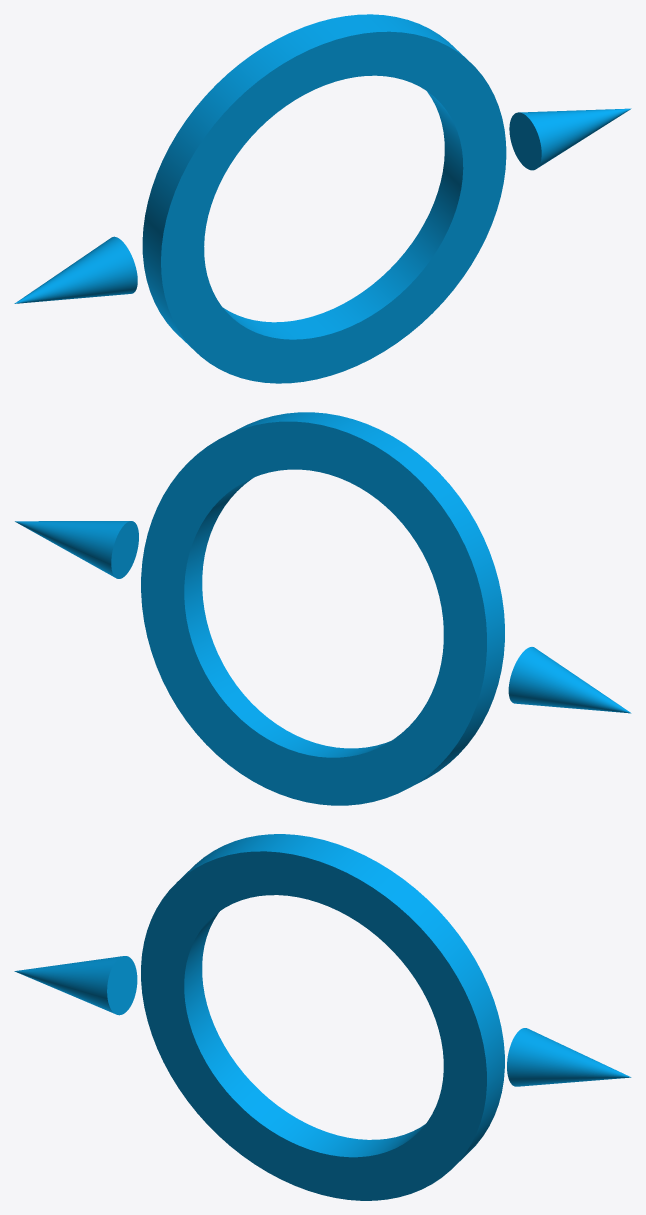
File: pathCursor.fbx
3 views of the same model, one above another, from view 1: azimuth 30°, elevation 25°; view 2: azimuth 150°, elevation 25°; view 3: azimuth 330°, elevation 25° (orthographic).
Parts seen in each view (by area): view 1: root (×3); view 2: root (×3); view 3: root (×3).
Boxes of the visible parts, x1,y1,x2,y2 form: root (×3): (14, 14, 631, 383); root (×3): (15, 412, 631, 805); root (×3): (14, 834, 631, 1200).
Bounding box in the file's own units: 0.5711 × 0.3199 × 0.0681.
